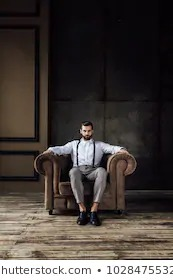F_shirt: (44, 138, 127, 168)
